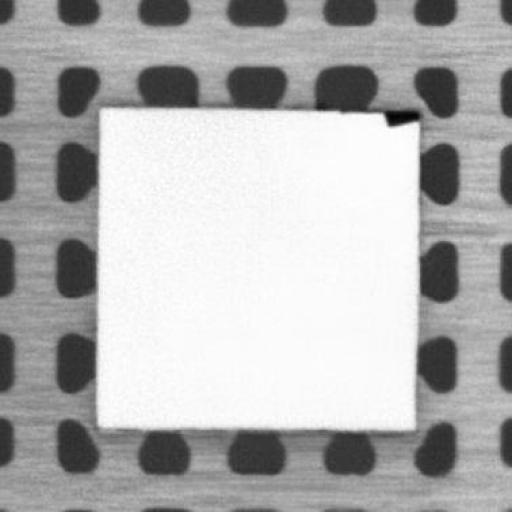DIE_BROKEN: (381, 106, 421, 128)
